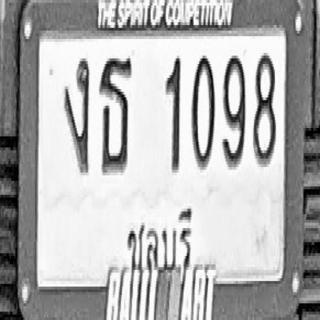A07: (64, 56, 89, 172)
A24: (99, 56, 132, 172)
N00: (192, 53, 214, 170)
N01: (165, 54, 180, 171)
N08: (252, 51, 276, 166)
N09: (222, 53, 245, 167)
P13: (122, 204, 198, 274)
